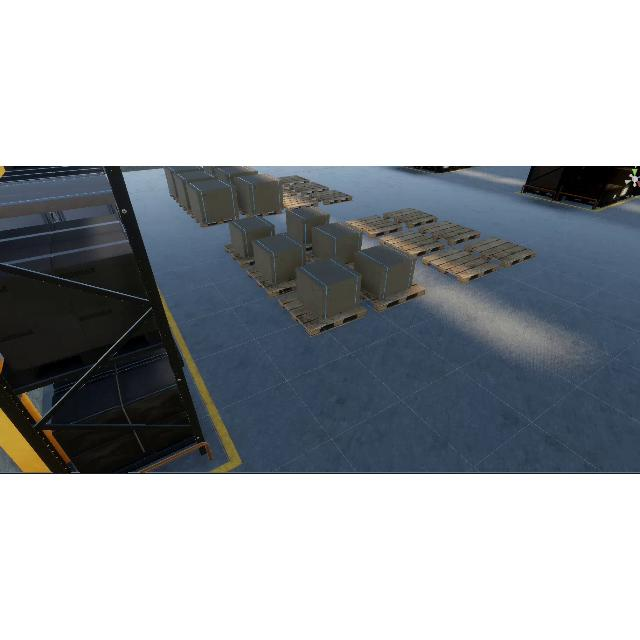wooden_pallet: (277, 294, 367, 338), (421, 247, 499, 284), (464, 236, 538, 269), (359, 281, 426, 312), (379, 230, 445, 258), (418, 220, 481, 246), (247, 267, 298, 299), (346, 214, 402, 238), (383, 207, 438, 229), (224, 244, 255, 269), (308, 189, 353, 205), (283, 194, 319, 212)
